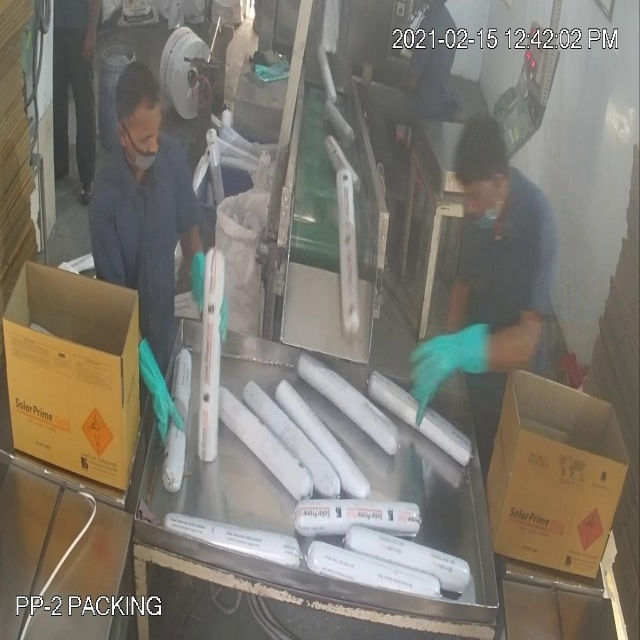Guantes: (402, 316, 502, 425), (130, 333, 186, 453), (179, 253, 231, 335)
